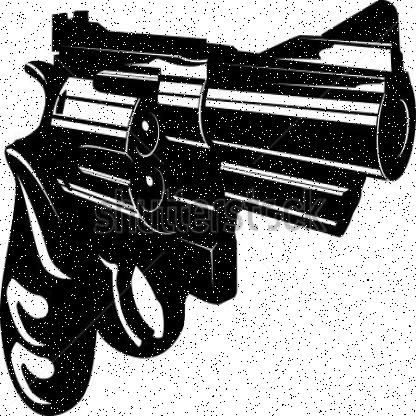pistol: (3, 1, 415, 415)
